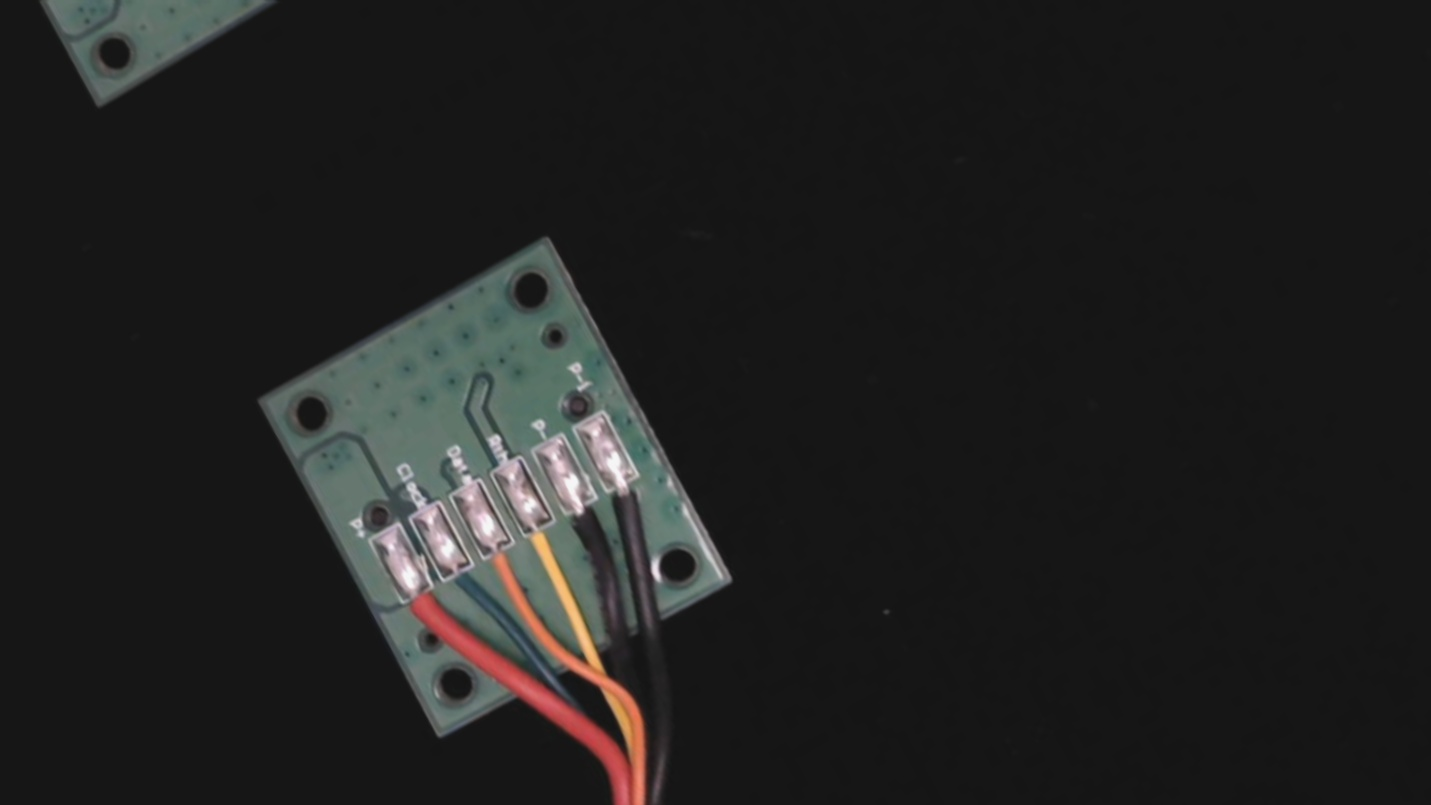Black: (545, 477, 633, 574)
Black1: (589, 450, 672, 540)
Green: (427, 542, 504, 626)
Orange: (462, 519, 542, 605)
Red: (386, 567, 465, 653)
Yellow: (505, 497, 593, 595)
